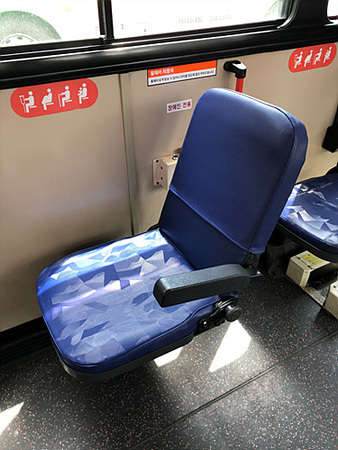seat: (35, 86, 307, 381)
